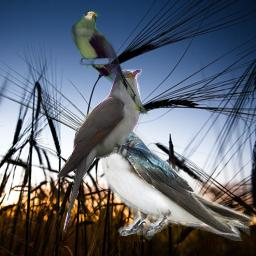Cuckoo: (56, 69, 142, 234), (71, 10, 153, 116)
Swallow: (74, 101, 256, 241)
